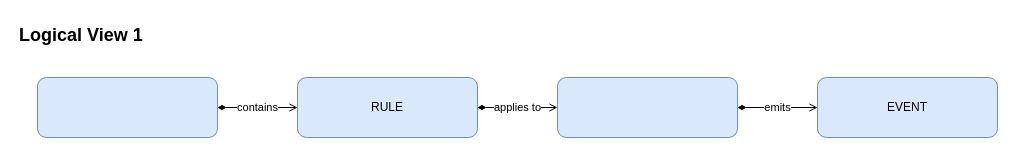
Image size: 1015x155. Some labels were removed from this diagram. The centre of each missing label's shape, as x and y in pixels:
"DATA_ASSET" belongs at pixel 647 107.
"POLICY" belongs at pixel 127 107.
